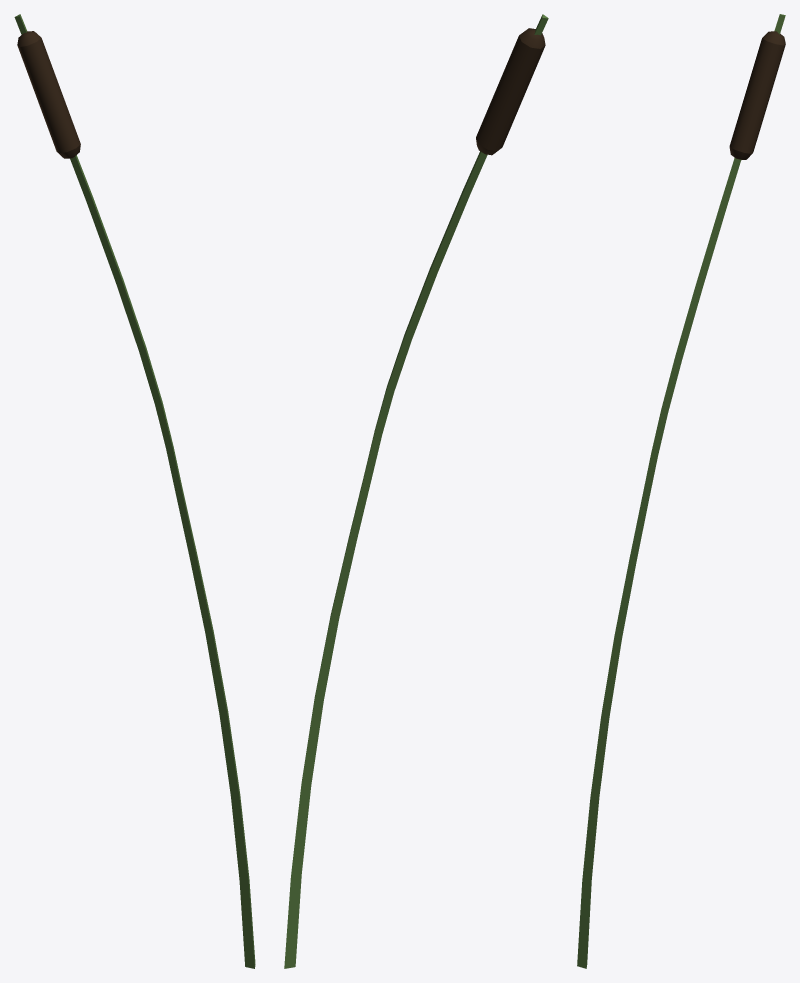
File: plant_cattail_solo_B_twig.fbx
3 renders of one model, left to right at view 1: azimuth 30°, elevation 25°; view 2: azimuth 210°, elevation 25°; view 3: azimuth 270°, elevation 25°, orthographic. The views are drawn at different scales.
Parts seen in each view (by area): view 1: plant_cattail_solo_B_twig, plant_cattail_solo_B_leaf; view 2: plant_cattail_solo_B_twig, plant_cattail_solo_B_leaf; view 3: plant_cattail_solo_B_twig, plant_cattail_solo_B_leaf.
Boxes of the visible parts, bbox=[...] form: plant_cattail_solo_B_twig: bbox=[14, 14, 255, 968]; plant_cattail_solo_B_leaf: bbox=[17, 31, 80, 158]; plant_cattail_solo_B_twig: bbox=[284, 14, 548, 968]; plant_cattail_solo_B_leaf: bbox=[476, 28, 545, 155]; plant_cattail_solo_B_twig: bbox=[577, 14, 785, 968]; plant_cattail_solo_B_leaf: bbox=[729, 31, 785, 159].
Size of the model in its own units: 34.56 by 213 by 45.23.
